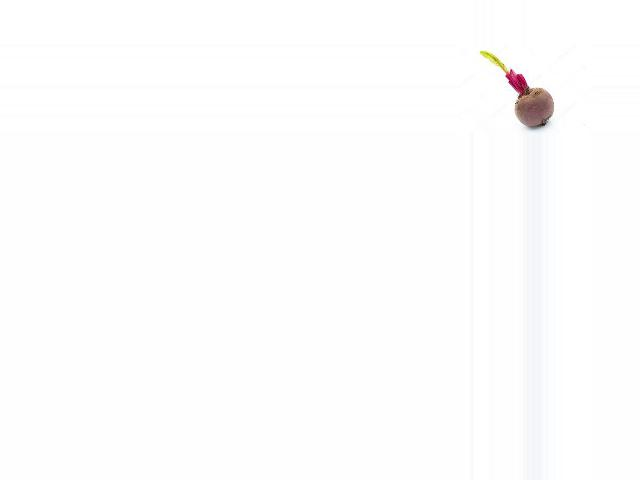beet: (481, 51, 554, 126)
